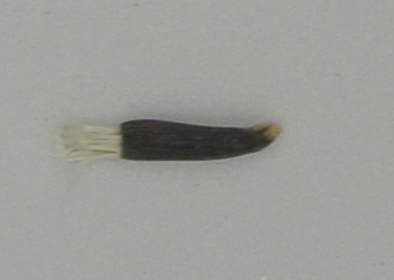เมล็ดดีติดกัน: (59, 117, 284, 168)
